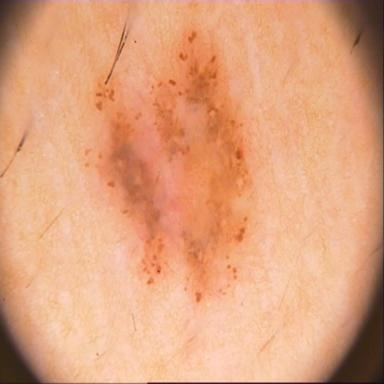nevus: (95, 29, 251, 303)
